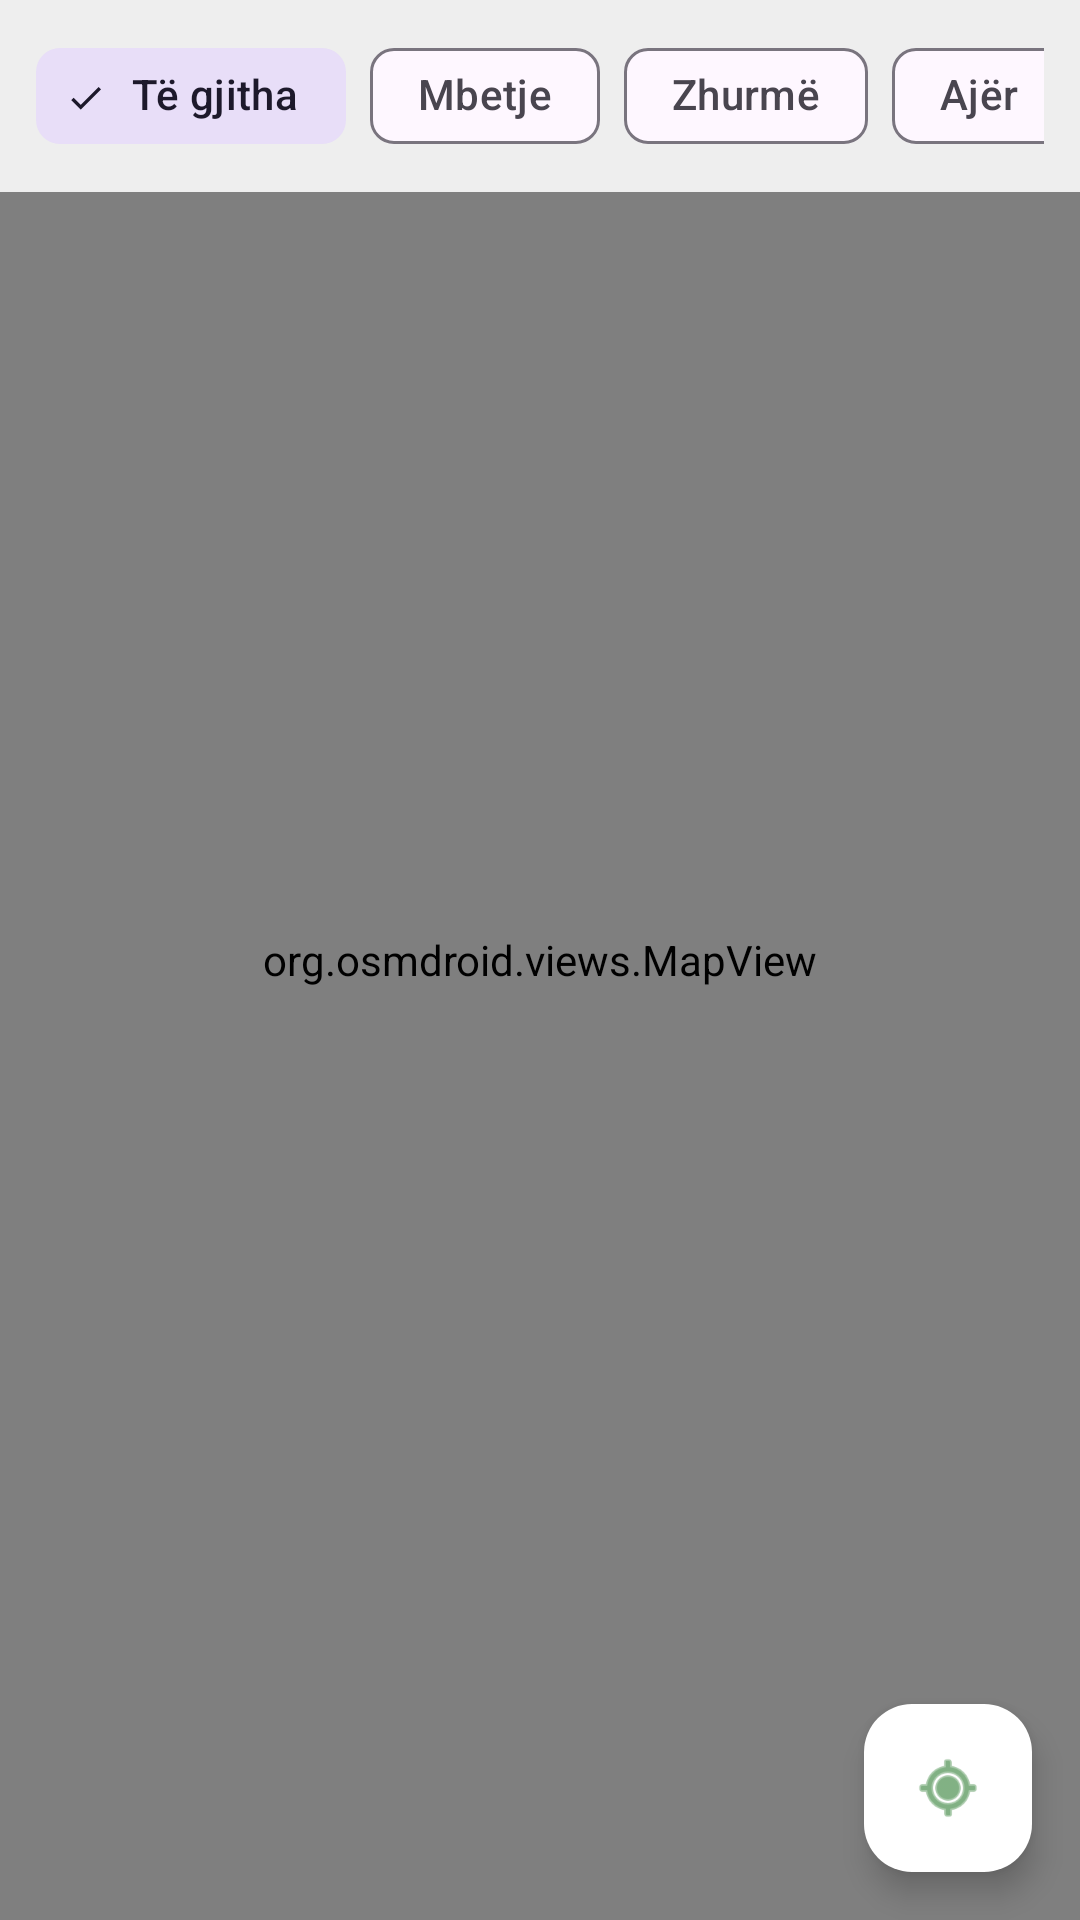

Icon click points for this 1080×1920 phone screenshot, format (x=x, y=y):
mylocation: (x=948, y=1788)
